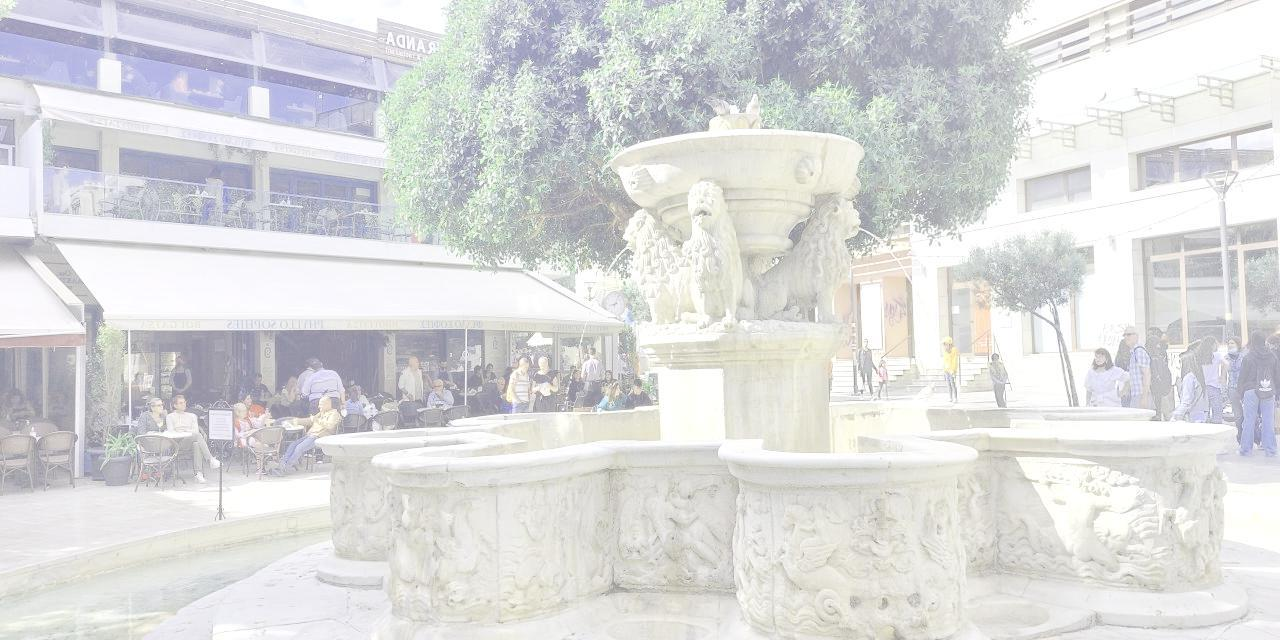Liontaria: (307, 105, 1245, 639)
